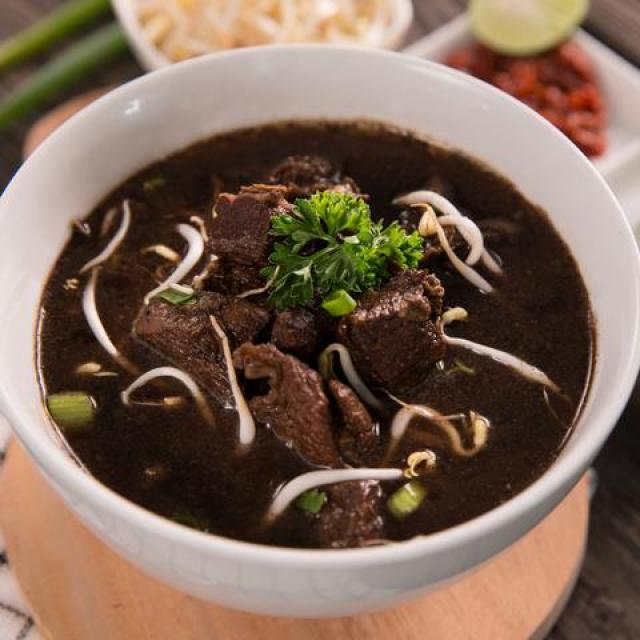Rawon: (50, 123, 588, 517)
